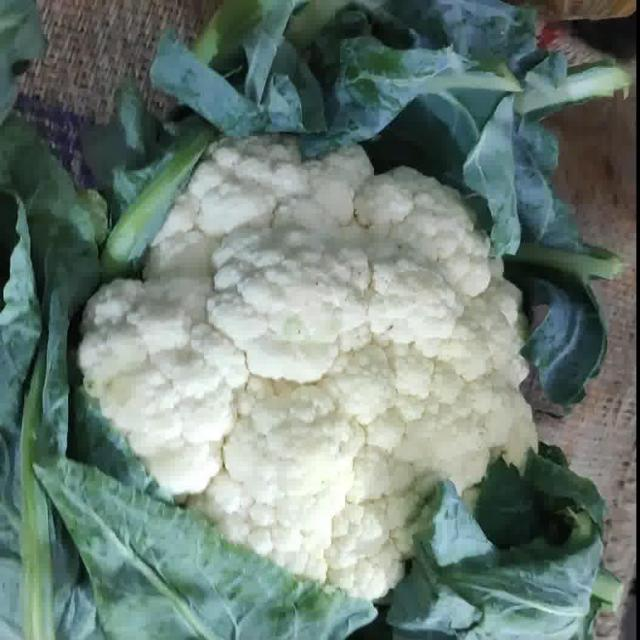Cauliflower: (78, 135, 537, 600)
